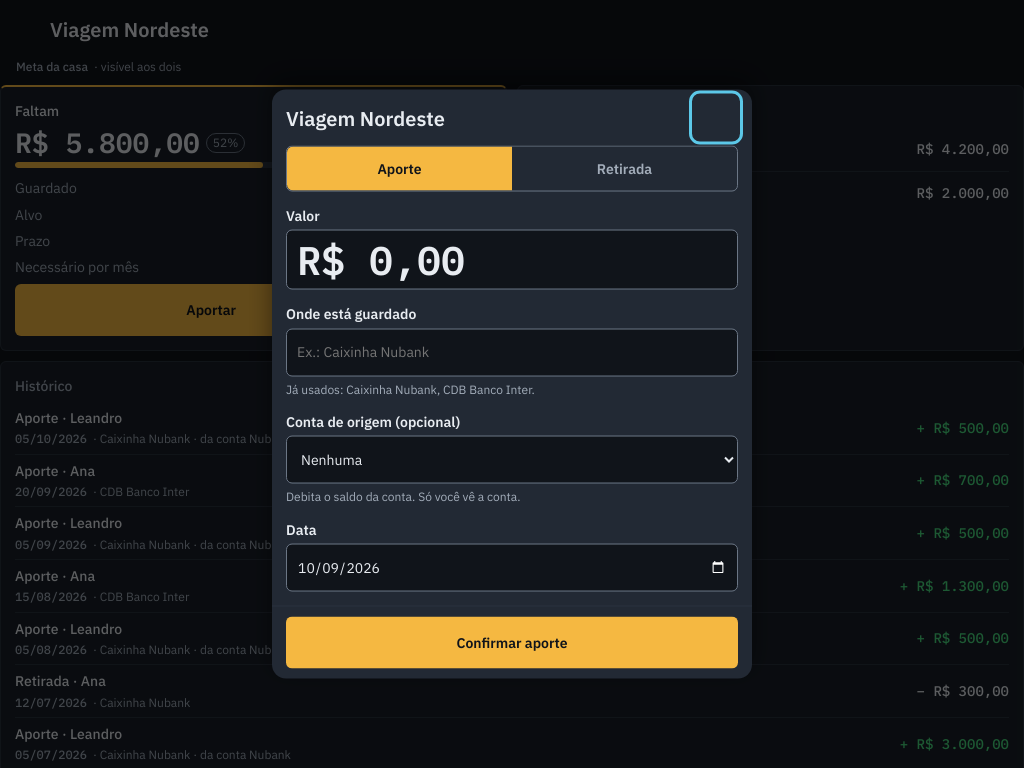
T13 aporte › valor zero mostra erro no campo de valor
The image size is (1024, 768).
Type "Cofre" into the field labelled "Onde está guardado". click: (512, 352)
box: [286,328,738,376]
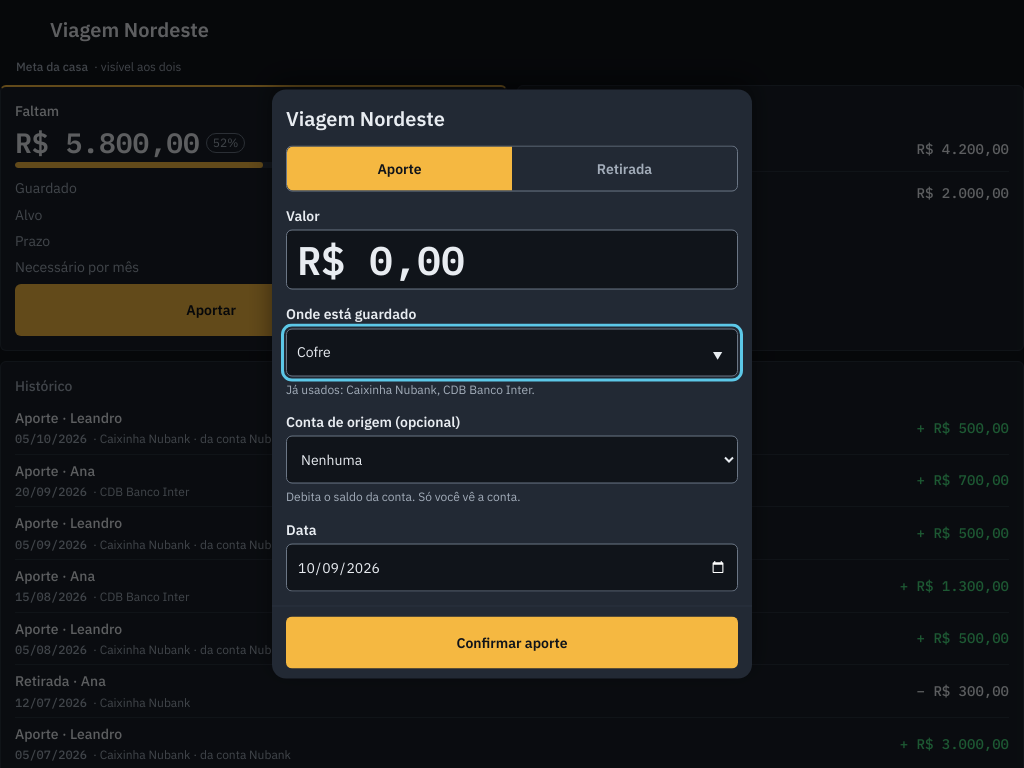
Click the button "Confirmar aporte". click: (512, 642)
box: [286,616,738,668]
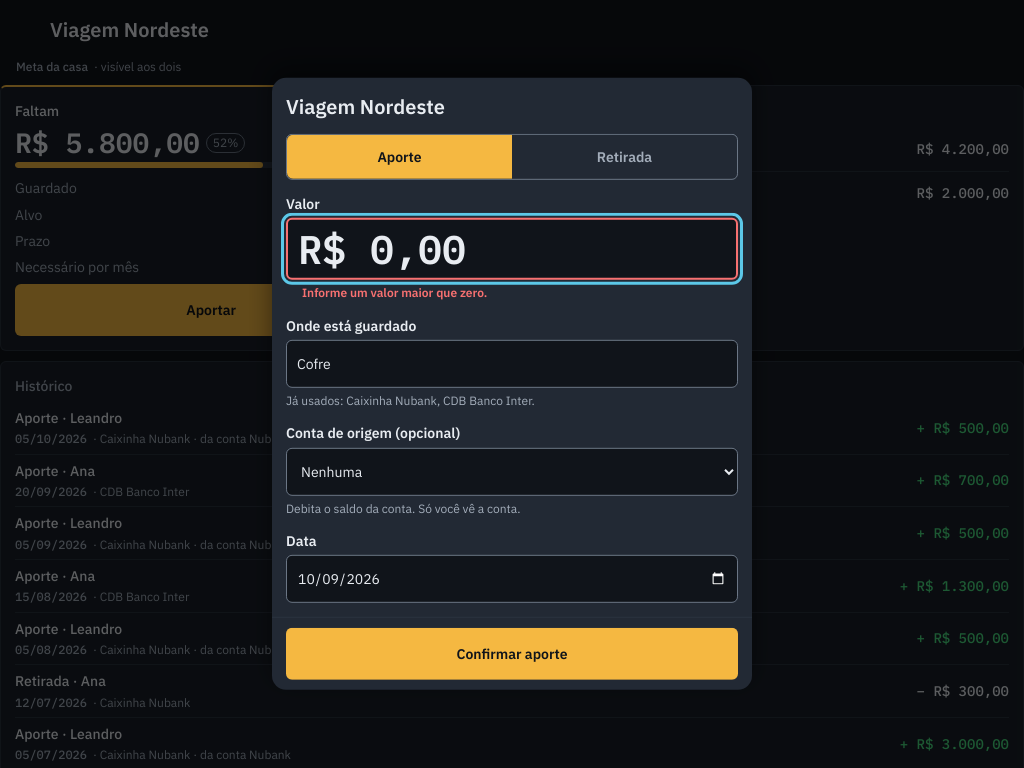
Now the text "Informe um valor maior que zero." is shown, box [286,285,487,300]
